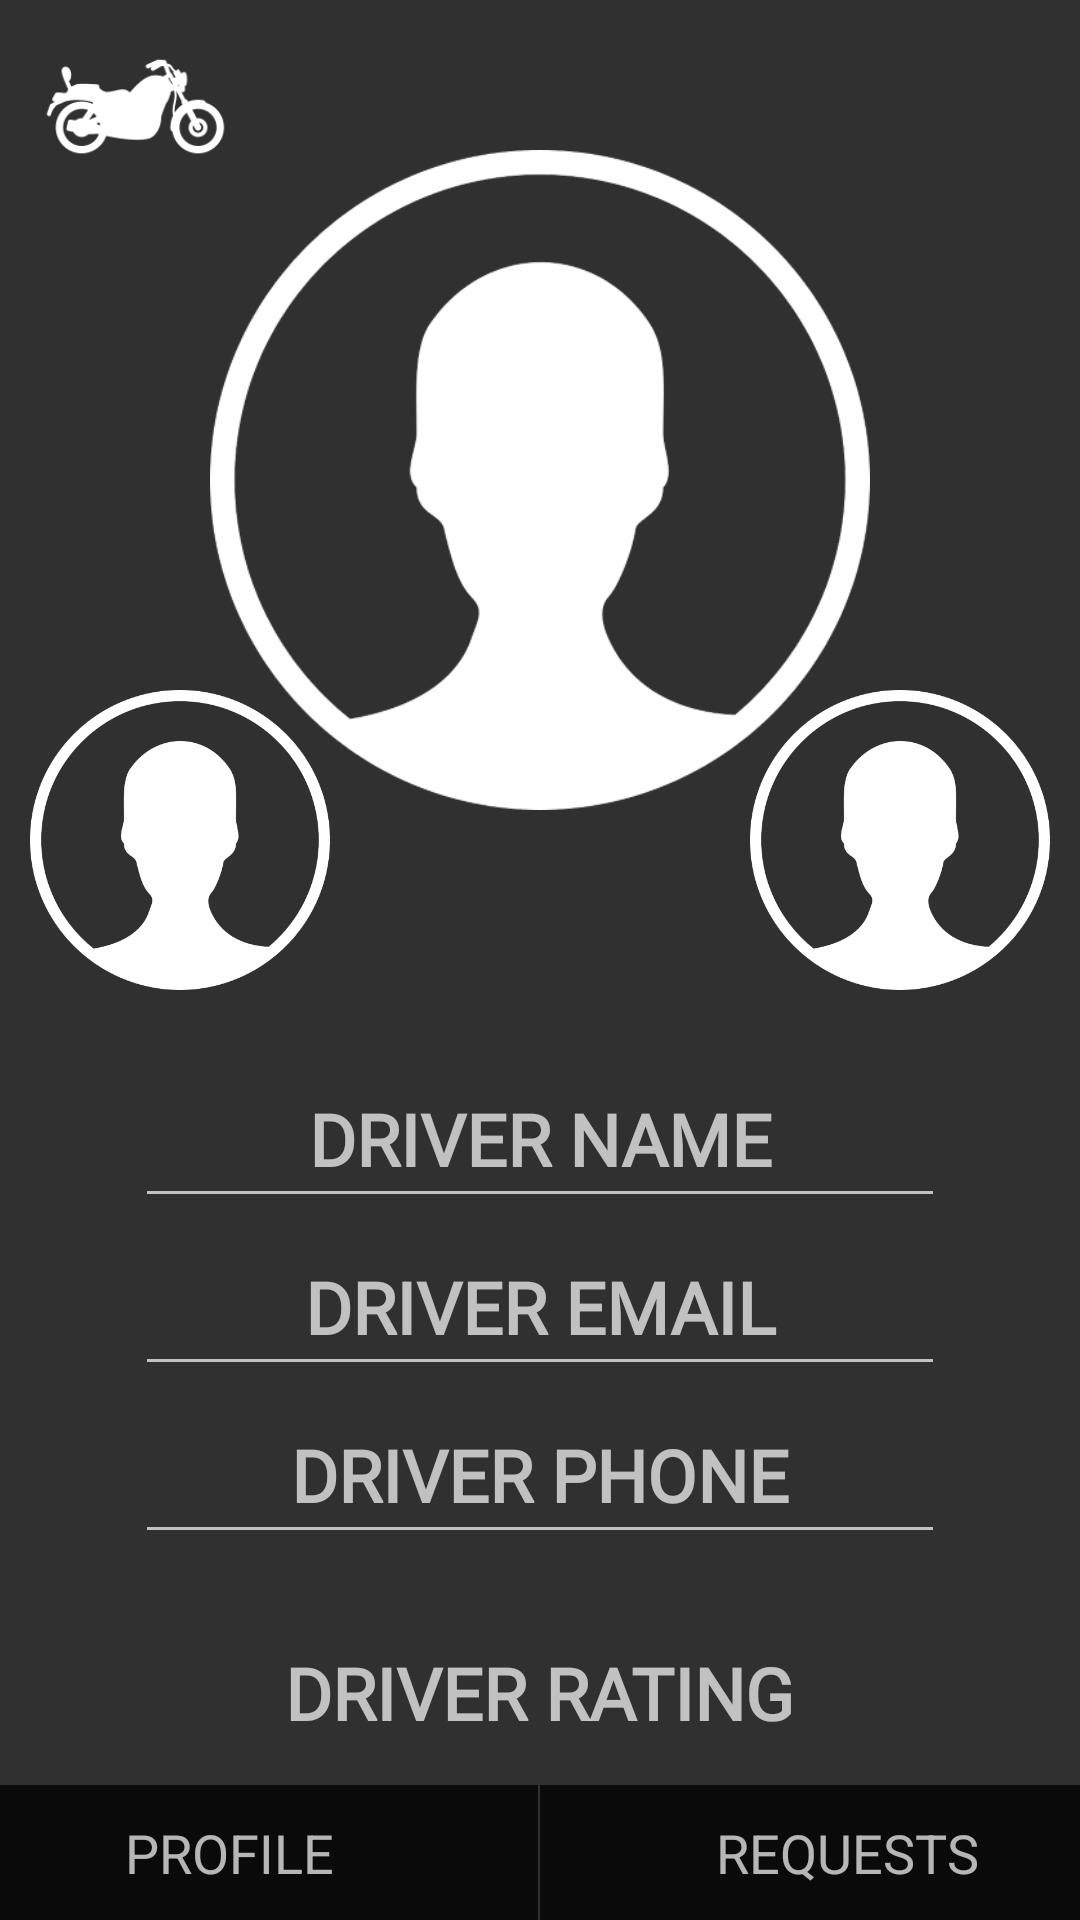

Icon bounding boxes for this 1080*1920 phone screenshot, format (x1, y1, x2, y2):
bike: (46, 59, 225, 154)
